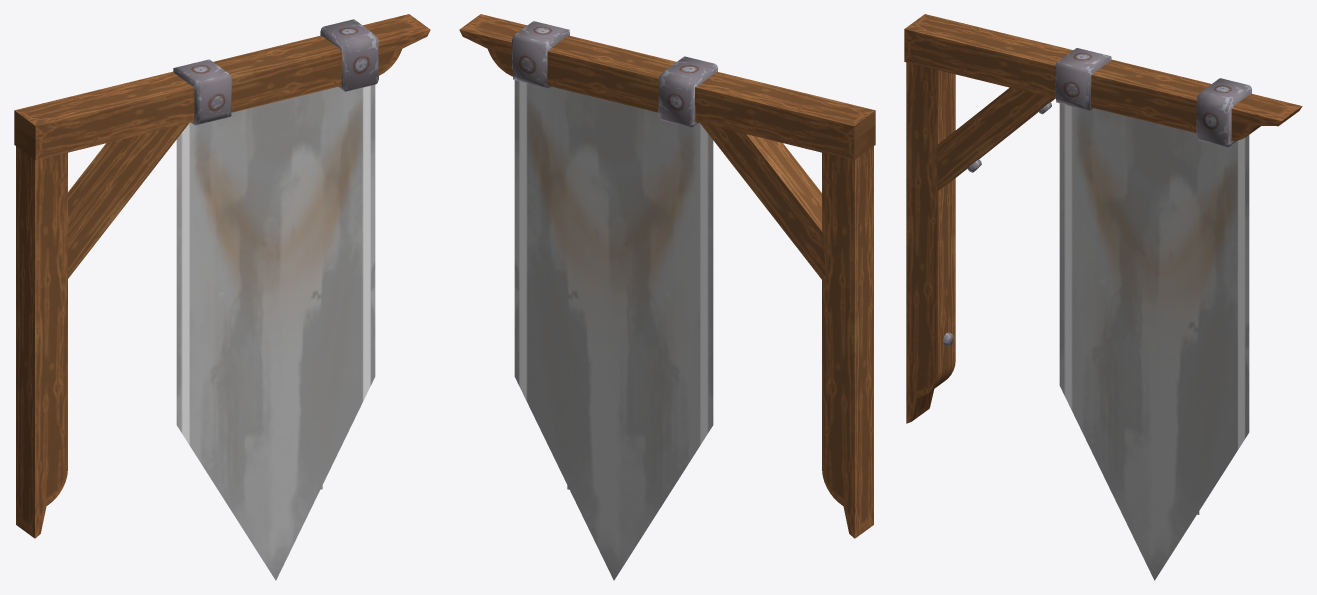
File: Banner_2.gltf
3 renders of one model, left to right at view 1: azimuth 30°, elevation 25°; view 2: azimuth 150°, elevation 25°; view 3: azimuth 330°, elevation 25°, orthographic. The views are drawn at different scales.
Visible parts, largest first — view 1: Banner_2; view 2: Banner_2; view 3: Banner_2.
Part boxes in pixels (x1,y1,x2,y2): Banner_2: (14,14,430,580); Banner_2: (459,14,875,580); Banner_2: (904,14,1302,580).
Size of the model in its own units: 1.61 by 2.08 by 0.1906.
Materials: 3 (3 with a texture image).
